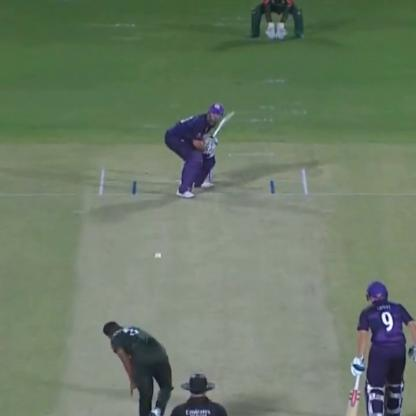ball: (152, 252, 166, 259)
pitch: (63, 169, 354, 415)
